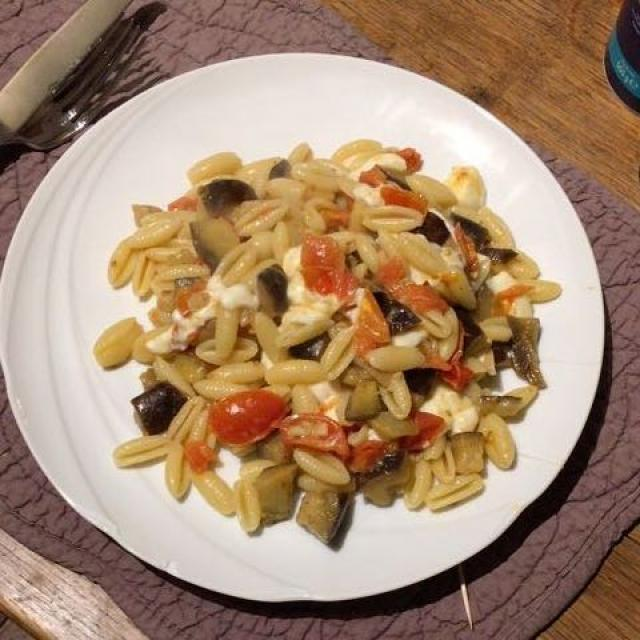cheese: (149, 245, 360, 355)
pasta: (114, 149, 555, 526)
tomato: (227, 389, 443, 467)
